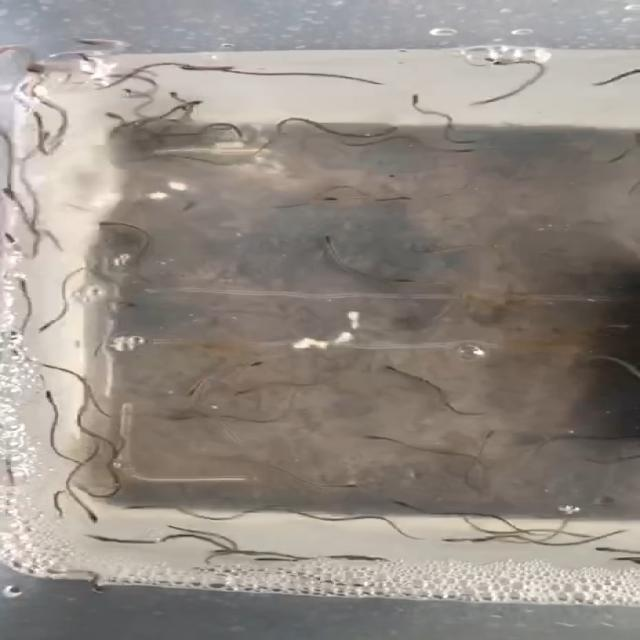inactive_glass_eel: (215, 378, 266, 405), (157, 195, 213, 217), (449, 138, 491, 166), (305, 224, 356, 247), (382, 188, 430, 212), (162, 62, 218, 82), (12, 59, 58, 82), (348, 426, 392, 450), (73, 215, 135, 231), (371, 358, 414, 381), (5, 273, 52, 294), (90, 105, 136, 126), (324, 476, 371, 496), (386, 497, 438, 515), (168, 376, 211, 397), (366, 124, 408, 145), (71, 530, 116, 549), (0, 226, 43, 245), (60, 32, 98, 52), (79, 511, 123, 528), (474, 424, 508, 445), (178, 96, 220, 111), (426, 530, 465, 546), (37, 388, 74, 404), (410, 92, 441, 110), (27, 319, 72, 331), (477, 50, 502, 70), (228, 358, 269, 370), (157, 91, 190, 104), (84, 581, 114, 595), (305, 186, 329, 203), (594, 540, 617, 552)
